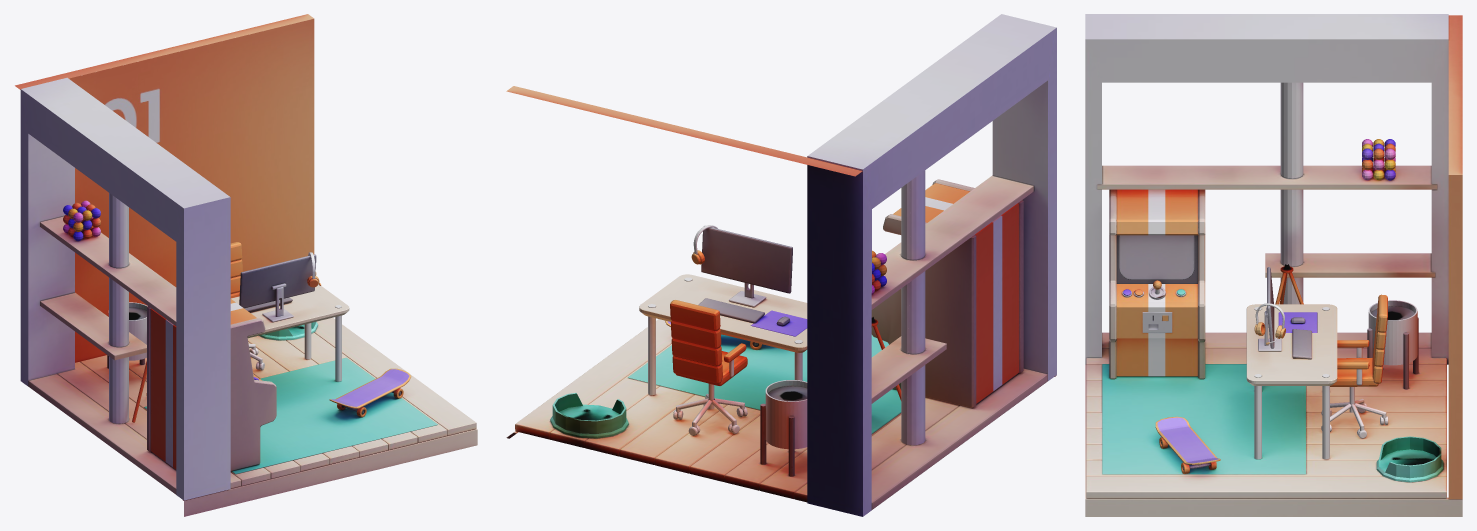
The model's file is demo_gameroom_baked.glb.
3 views of the same model, side by side, from view 1: azimuth 30°, elevation 25°; view 2: azimuth 150°, elevation 25°; view 3: azimuth 270°, elevation 25° (orthographic). The views are drawn at different scales.
Parts seen in each view (by area): view 1: white.013; view 2: white.013; view 3: white.013.
Boxes of the visible parts, x1,y1,x2,y2 form: white.013: (15, 14, 477, 516); white.013: (506, 14, 1056, 516); white.013: (1085, 14, 1462, 516).
Size of the model in its own units: 2 by 2.01 by 2.
1 material, 1 textured.
